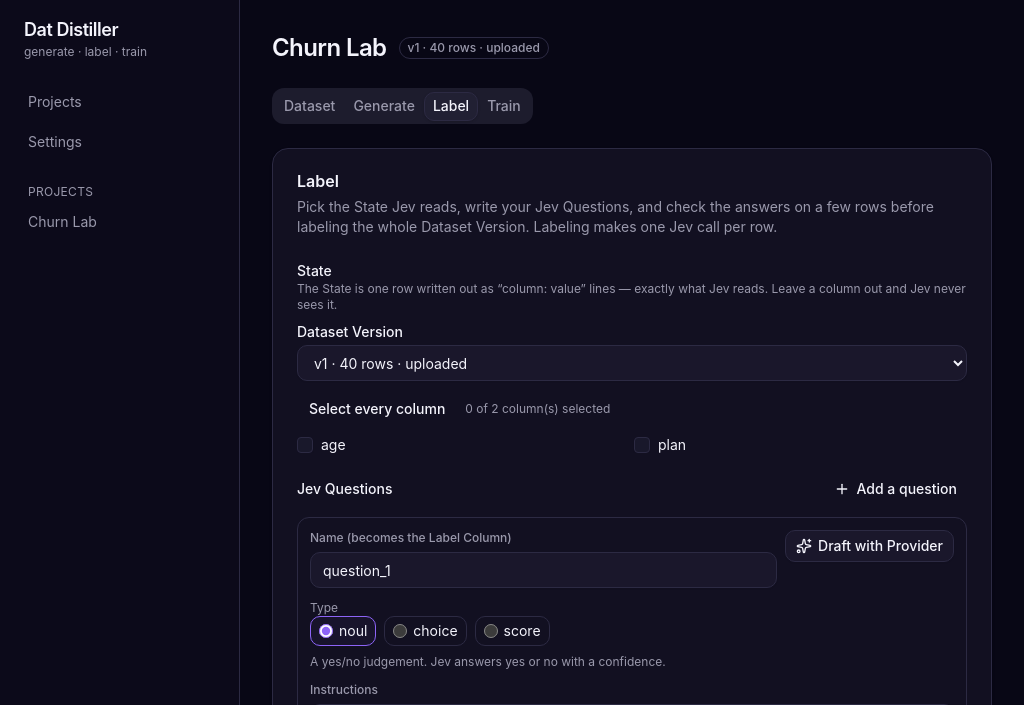
Test: Label step — the State picker › previews the serialized State as Jev will receive it
Expected: the checkbox named "age" next to "age" is shown, [297,437,313,453]
Click the button "Select every column": [377, 409] box [297,393,457,425]
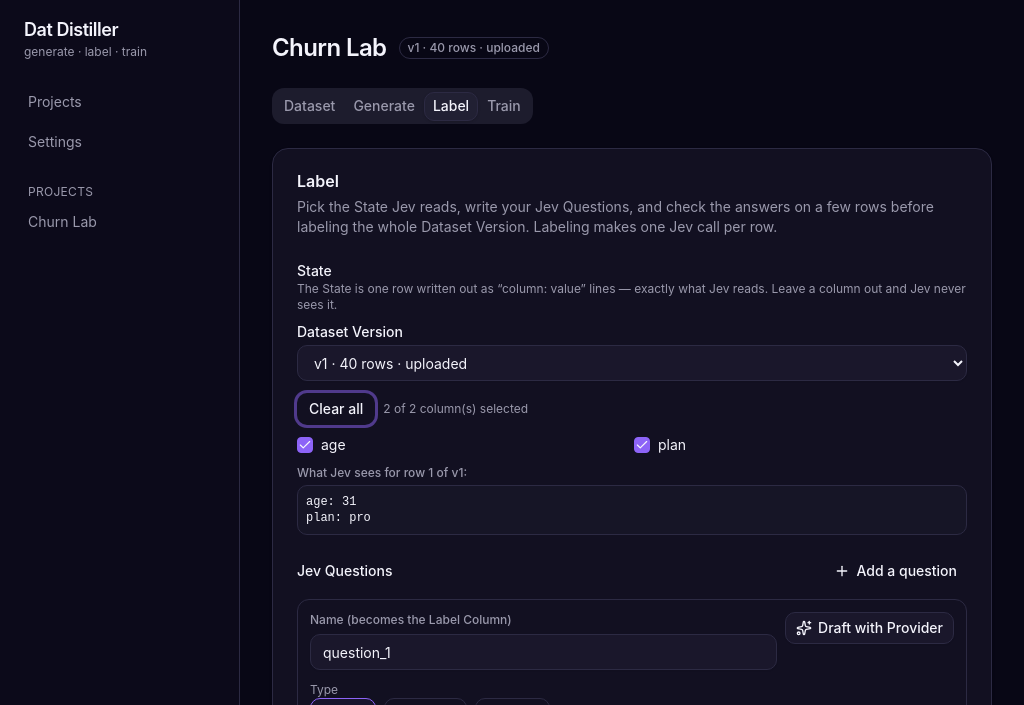
Expected: the text with test id "state-preview" shows "age: 31", [306,495,371,525]
Expected: the text with test id "state-preview" shows "plan: pro", [306,495,371,525]
